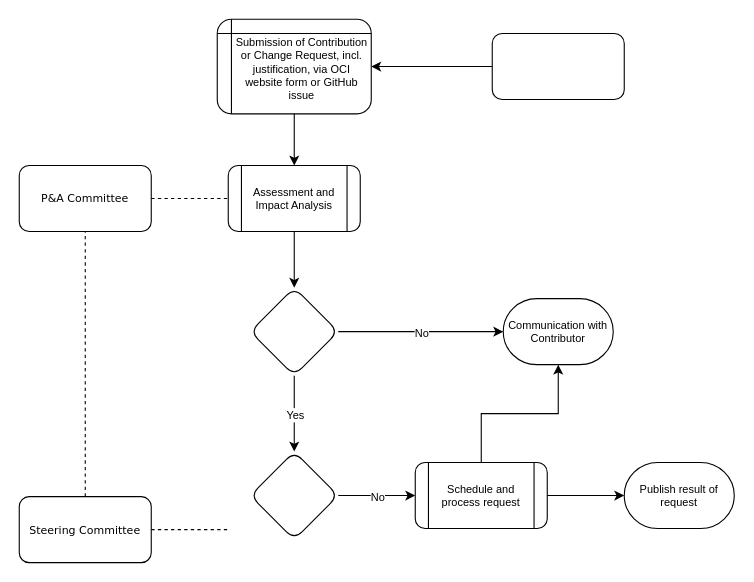
Some shapes in this 754 by 582 pixel diagram are drawn without their labels. The centre of each missing label's shape, as x and y in pixels:
"Contribution approved?" belongs at point 293,331.
"OCI Contributor" belongs at point 557,66.
"Substantive change?" belongs at point 293,495.
